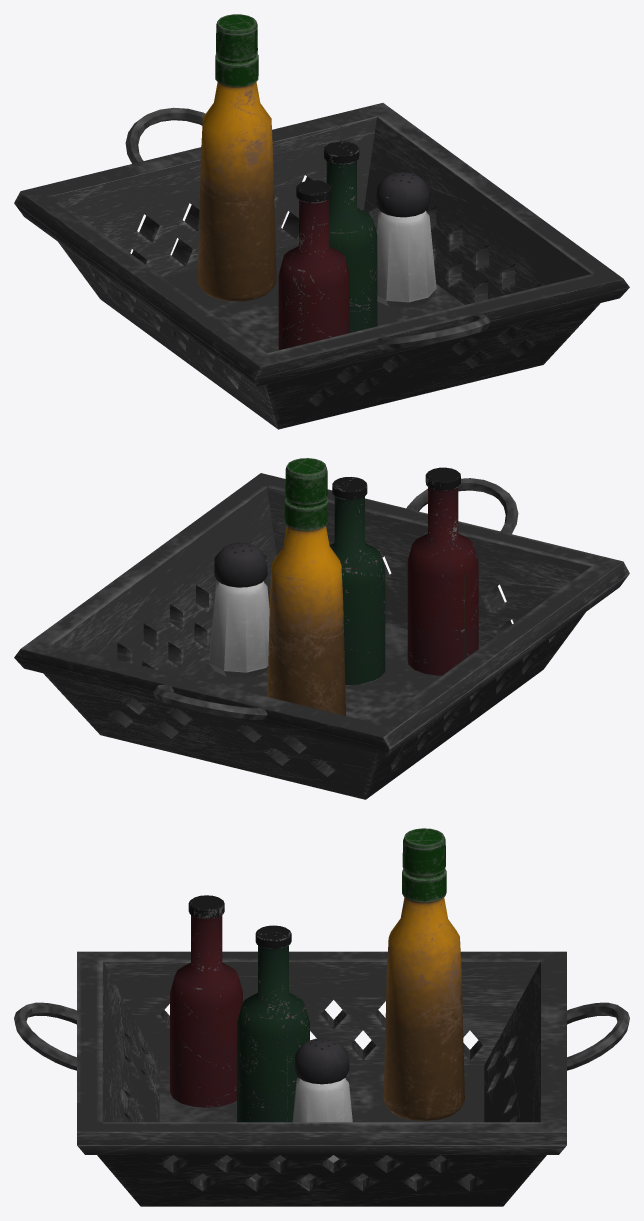
File: Temperos de mesa.fbx
3 renders of one model, top to bottom at view 1: azimuth 30°, elevation 25°; view 2: azimuth 150°, elevation 25°; view 3: azimuth 270°, elevation 25°, orthographic.
Parts seen in each view (by area): view 1: Cube.001, Cylinder.005, Cylinder.004, Cylinder.002, Cylinder.001; view 2: Cube.001, Cylinder.005, Cylinder.004, Cylinder.001, Cylinder.002; view 3: Cube.001, Cylinder.005, Cylinder.004, Cylinder.001, Cylinder.002.
Part boxes in pixels (box(x1,y1,x2,y2)): Cube.001: box(14, 103, 629, 429); Cylinder.005: box(197, 14, 276, 301); Cylinder.004: box(278, 180, 349, 350); Cylinder.002: box(376, 172, 436, 307); Cylinder.001: box(324, 141, 377, 332); Cube.001: box(14, 473, 629, 799); Cylinder.005: box(267, 458, 345, 715); Cylinder.004: box(407, 467, 478, 675); Cylinder.001: box(329, 477, 385, 684); Cylinder.002: box(209, 542, 269, 678); Cube.001: box(14, 951, 629, 1206); Cylinder.005: box(383, 828, 464, 1121); Cylinder.004: box(170, 895, 242, 1107); Cylinder.001: box(237, 925, 309, 1122); Cylinder.002: box(292, 1038, 352, 1175).
Size of the model in its own units: 26.54 by 18.99 by 37.
